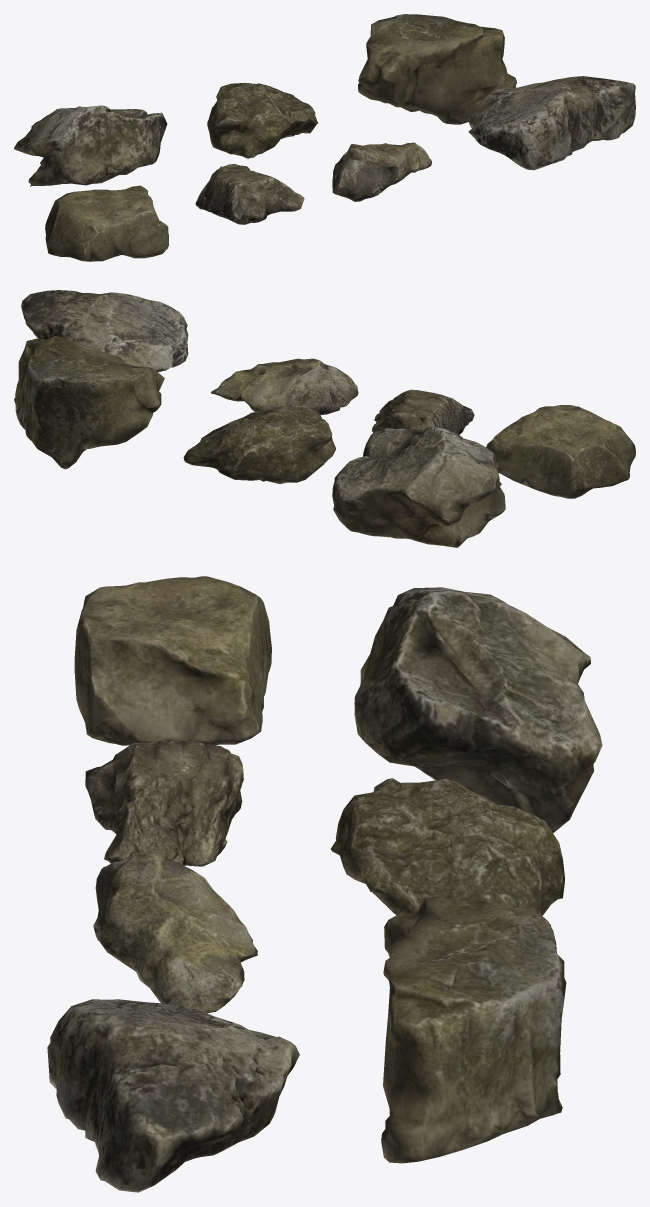
The model's file is rock_moss_set_02.glb.
The picture shows the model from 3 angles, top to bottom: view 1: azimuth 30°, elevation 25°; view 2: azimuth 150°, elevation 25°; view 3: azimuth 270°, elevation 25°; orthographic projection. The views are drawn at different scales.
Visible parts, largest first — view 1: rock_moss_set_02_rock13, rock_moss_set_02_rock10, rock_moss_set_02_rock11, rock_moss_set_02_rock07, rock_moss_set_02_rock12, rock_moss_set_02_rock08, rock_moss_set_02_rock09; view 2: rock_moss_set_02_rock11, rock_moss_set_02_rock13, rock_moss_set_02_rock07, rock_moss_set_02_rock10, rock_moss_set_02_rock12, rock_moss_set_02_rock09, rock_moss_set_02_rock08; view 3: rock_moss_set_02_rock13, rock_moss_set_02_rock11, rock_moss_set_02_rock10, rock_moss_set_02_rock07, rock_moss_set_02_rock12, rock_moss_set_02_rock09, rock_moss_set_02_rock08.
Boxes of the visible parts, x1=… form: rock_moss_set_02_rock13: x1=358, y1=14, x2=516, y2=124; rock_moss_set_02_rock10: x1=468, y1=76, x2=635, y2=170; rock_moss_set_02_rock11: x1=14, y1=105, x2=167, y2=186; rock_moss_set_02_rock07: x1=45, y1=185, x2=169, y2=261; rock_moss_set_02_rock12: x1=207, y1=82, x2=317, y2=158; rock_moss_set_02_rock08: x1=195, y1=163, x2=304, y2=224; rock_moss_set_02_rock09: x1=332, y1=142, x2=431, y2=201; rock_moss_set_02_rock11: x1=332, y1=426, x2=505, y2=547; rock_moss_set_02_rock13: x1=14, y1=336, x2=164, y2=469; rock_moss_set_02_rock07: x1=486, y1=405, x2=635, y2=498; rock_moss_set_02_rock10: x1=21, y1=290, x2=188, y2=372; rock_moss_set_02_rock12: x1=183, y1=405, x2=335, y2=483; rock_moss_set_02_rock09: x1=210, y1=358, x2=358, y2=415; rock_moss_set_02_rock08: x1=372, y1=389, x2=474, y2=434; rock_moss_set_02_rock13: x1=381, y1=894, x2=566, y2=1163; rock_moss_set_02_rock11: x1=354, y1=587, x2=602, y2=832; rock_moss_set_02_rock10: x1=47, y1=999, x2=299, y2=1192; rock_moss_set_02_rock07: x1=74, y1=576, x2=271, y2=745; rock_moss_set_02_rock12: x1=331, y1=778, x2=564, y2=925; rock_moss_set_02_rock09: x1=93, y1=851, x2=257, y2=1012; rock_moss_set_02_rock08: x1=85, y1=740, x2=243, y2=866.
Bounding box in the file's own units: 8.28 × 1.37 × 3.41.
1 material, 1 textured.
